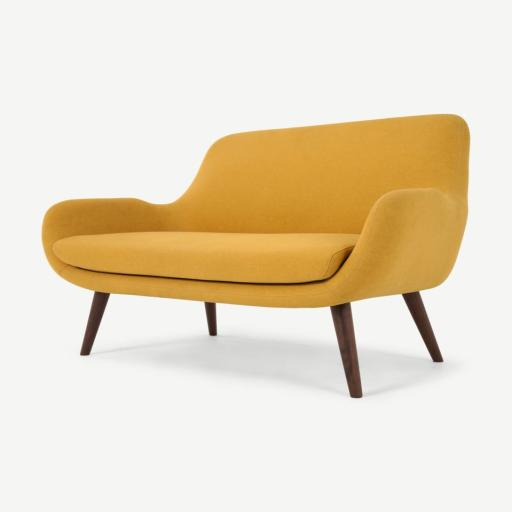back_cushion: (172, 114, 469, 234)
base: (61, 266, 350, 307)
left_arm: (325, 189, 462, 304)
legs: (330, 303, 362, 397), (403, 292, 442, 362), (81, 292, 108, 355), (204, 302, 217, 335)
one-seater: (42, 114, 469, 397)
right_arm: (42, 198, 176, 274)
seat_cushion: (51, 232, 358, 284)
